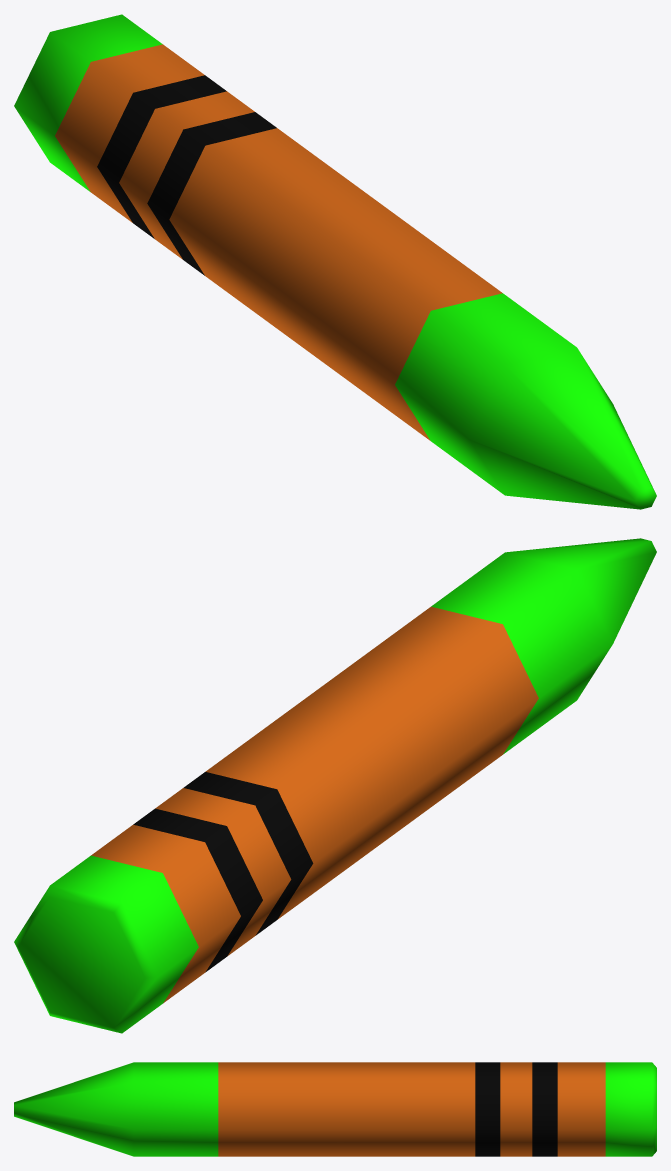
The model's file is crayon_01.FBX.
3 renders of one model, top to bottom at view 1: azimuth 30°, elevation 25°; view 2: azimuth 150°, elevation 25°; view 3: azimuth 270°, elevation 25°, orthographic. The views are drawn at different scales.
Visible parts, largest first — view 1: crayon_01, crayon_01_Paint; view 2: crayon_01, crayon_01_Paint; view 3: crayon_01, crayon_01_Paint.
Part boxes in pixels (x1=…): crayon_01: x1=55, y1=44, x2=502, y2=440; crayon_01_Paint: x1=14, y1=14, x2=656, y2=509; crayon_01: x1=91, y1=606, x2=538, y2=1003; crayon_01_Paint: x1=14, y1=538, x2=656, y2=1033; crayon_01: x1=218, y1=1062, x2=605, y2=1156; crayon_01_Paint: x1=14, y1=1062, x2=656, y2=1156.
Bounding box in the file's own units: 0.0334 × 0.0289 × 0.2265.
